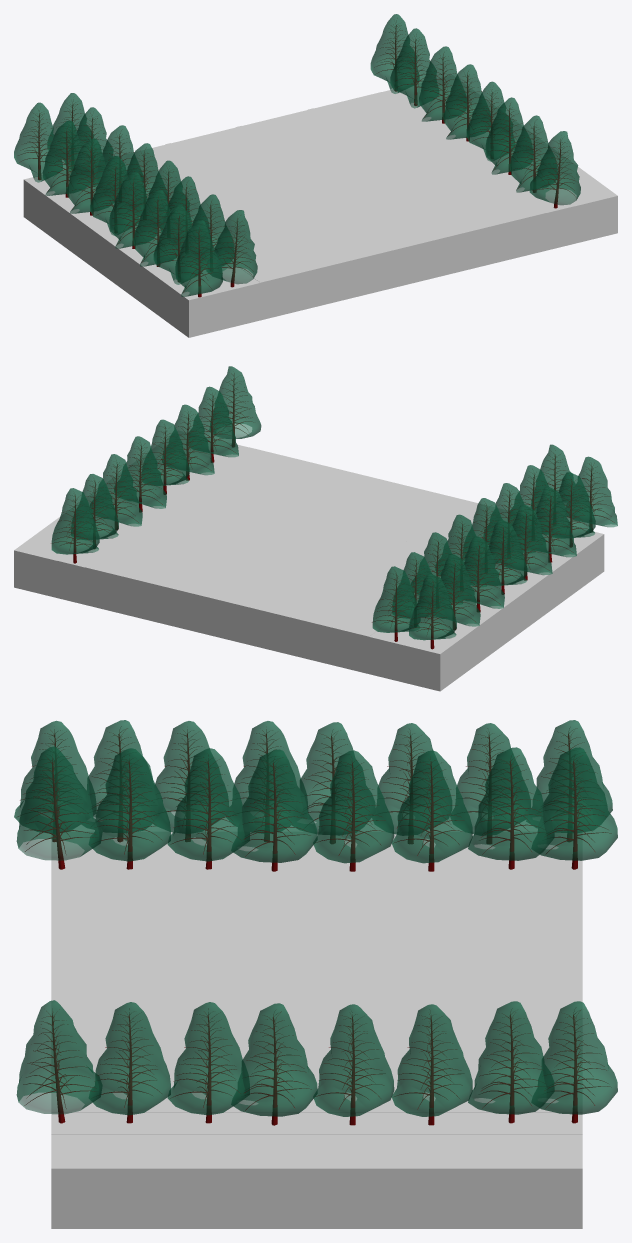
The model's file is yol1.FBX.
The picture shows the model from 3 angles, top to bottom: view 1: azimuth 30°, elevation 25°; view 2: azimuth 150°, elevation 25°; view 3: azimuth 270°, elevation 25°; orthographic projection. The views are drawn at different scales.
Visible parts, largest first — view 1: Box003, Box001, Box002, Foliage017, Foliage015, Foliage001, Foliage018, Foliage022, Foliage020, Foliage021, Foliage023, Foliage024 (+15 smaller); view 2: Box003, Box002, Box001, Foliage017, Foliage024, Foliage011, Foliage023, Foliage022, Foliage016, Foliage018, Foliage013, Foliage021 (+15 smaller); view 3: Box003, Box001, Box002, Foliage001, Foliage017, Foliage004, Foliage003, Foliage024, Foliage019, Foliage016, Foliage020, Foliage018 (+15 smaller).
Part boxes in pixels (x1,y1,x2,y2): Box003: (121,92,546,317); Box001: (23,75,617,337); Box002: (24,87,573,329); Foliage017: (529,131,580,208); Foliage015: (175,220,222,297); Foliage001: (206,210,257,287); Foliage018: (510,115,557,192); Foliage022: (485,97,532,174); Foliage020: (390,28,438,108); Foliage021: (419,46,466,123); Foliage023: (443,64,490,141); Foliage024: (370,14,418,93); Box003: (85,447,507,636); Box002: (57,441,603,691); Box001: (14,430,604,690); Foliage017: (210,366,261,447); Foliage024: (51,488,99,563); Foliage011: (409,573,456,649); Foliage023: (114,436,166,511); Foliage022: (162,404,214,480); Foliage016: (372,566,420,641); Foliage018: (189,386,238,462); Foliage013: (500,504,552,580); Foliage021: (90,454,142,529); Box003: (51,887,582,1112); Box001: (51,1134,582,1228); Box002: (51,832,582,1134); Foliage001: (16,746,102,869); Foliage017: (16,1000,102,1123); Foliage004: (468,747,554,869); Foliage003: (231,749,317,871); Foliage024: (531,1001,617,1123); Foliage019: (231,1003,317,1125); Foliage016: (531,747,617,869); Foliage020: (468,1001,554,1123); Foliage018: (89,1002,170,1123).
Size of the model in its own units: 123 by 30.46 by 90.94.
